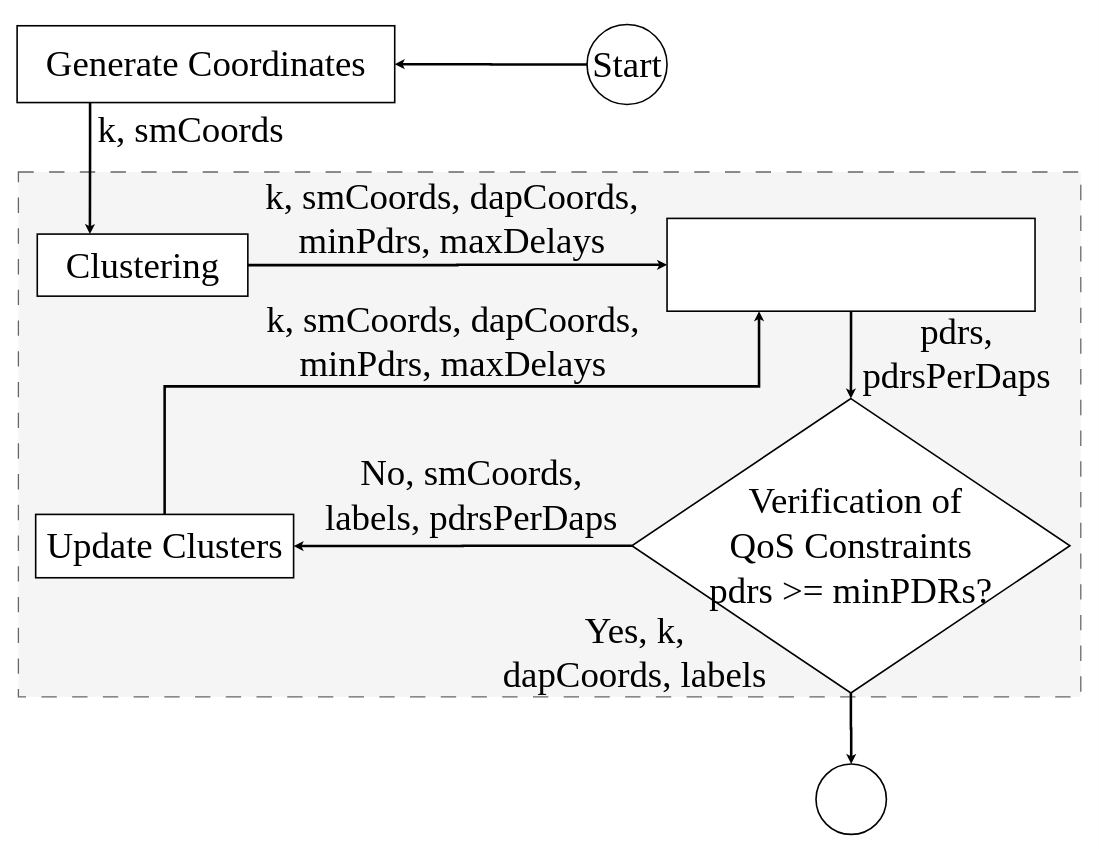
Image size: 1099x849. Some labels were removed from this diagram. The centre of each missing label's shape, as x and y in pixels:
End: (851,799)
LoRaWAN Network Simulation: (851,264)
